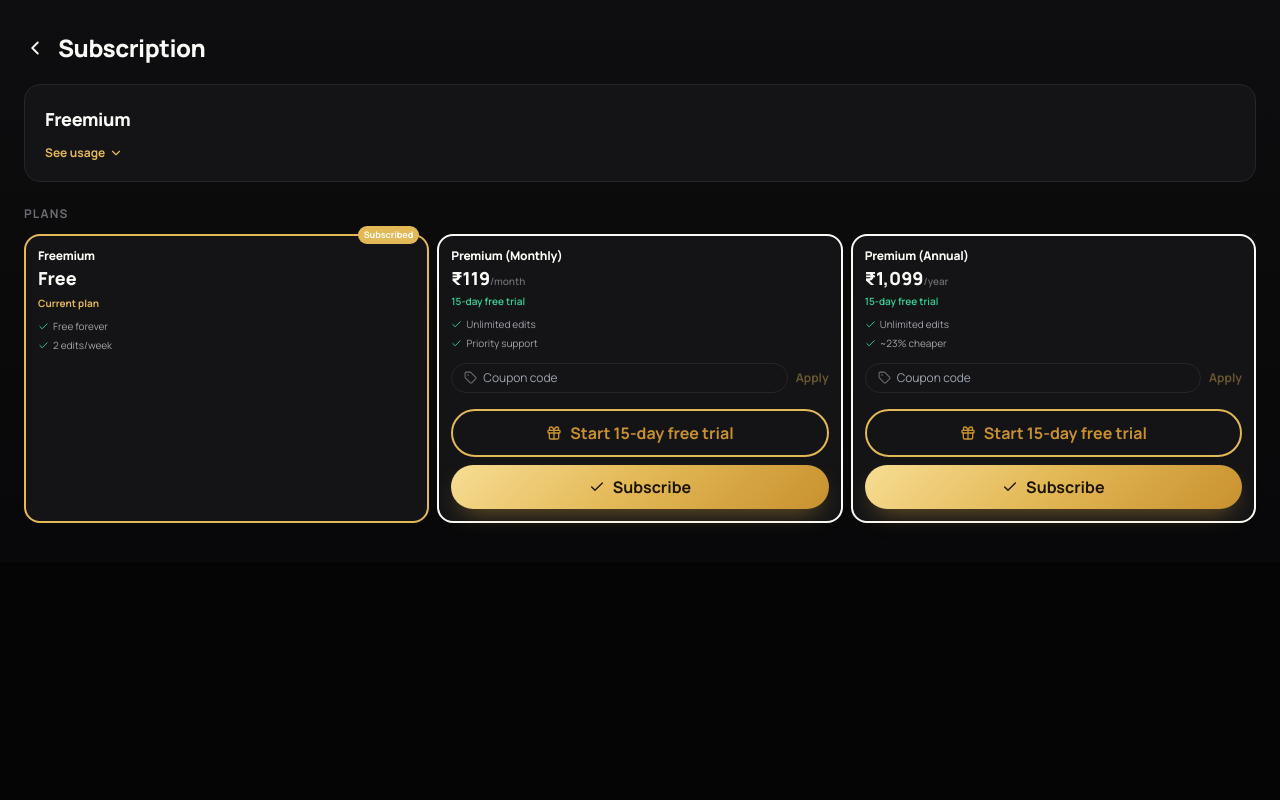
Test: Subscription screen › usage behind a toggle, with limits shown › is hidden until the toggle is clicked, then shows usage paired with its limit
Click the button with test id "subscription-usage-toggle-btn" at (84, 153), box [45,145,123,161]
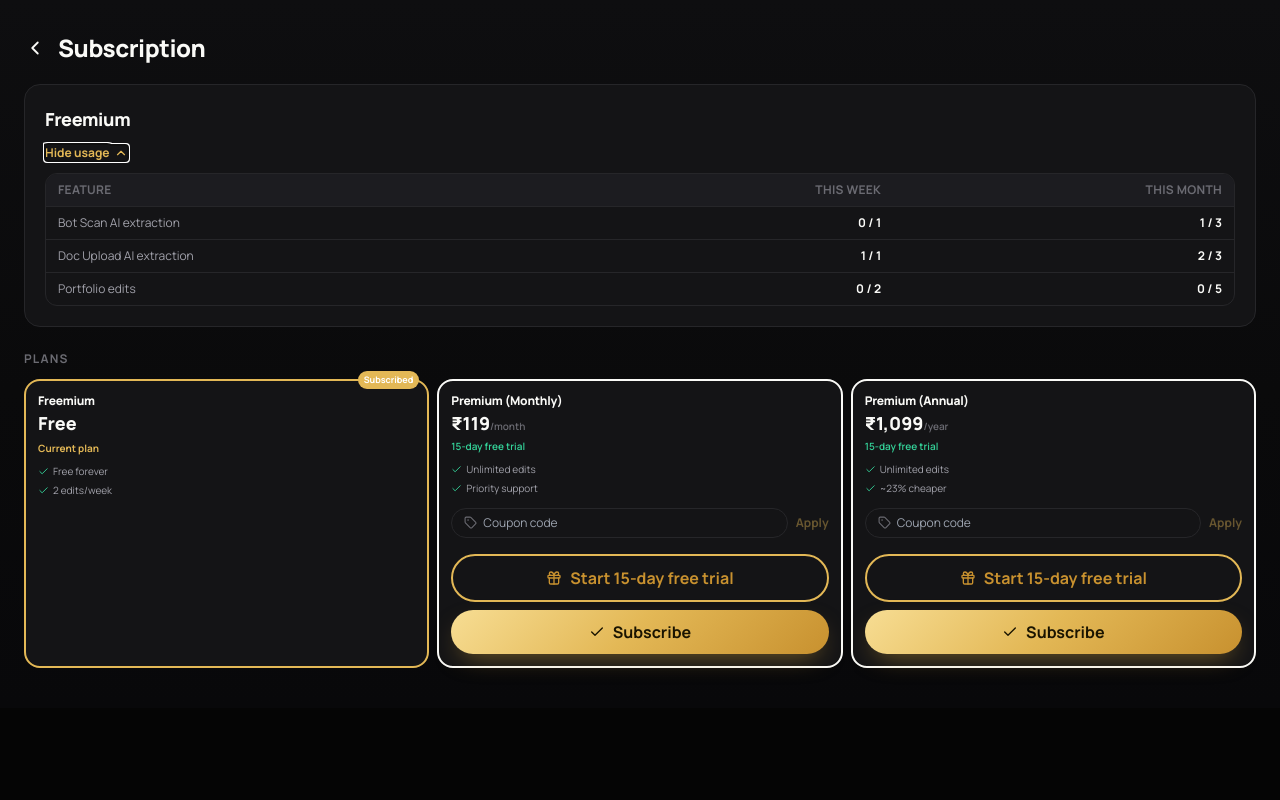
Check: the element with test id "subscription-usage-table" is shown, box [45,173,1235,306]
Check: the row with test id "subscription-usage-row-bot_scan" shows "0 / 1", box [46,206,1234,240]
Check: the row with test id "subscription-usage-row-bot_scan" shows "1 / 3", box [46,206,1234,240]
